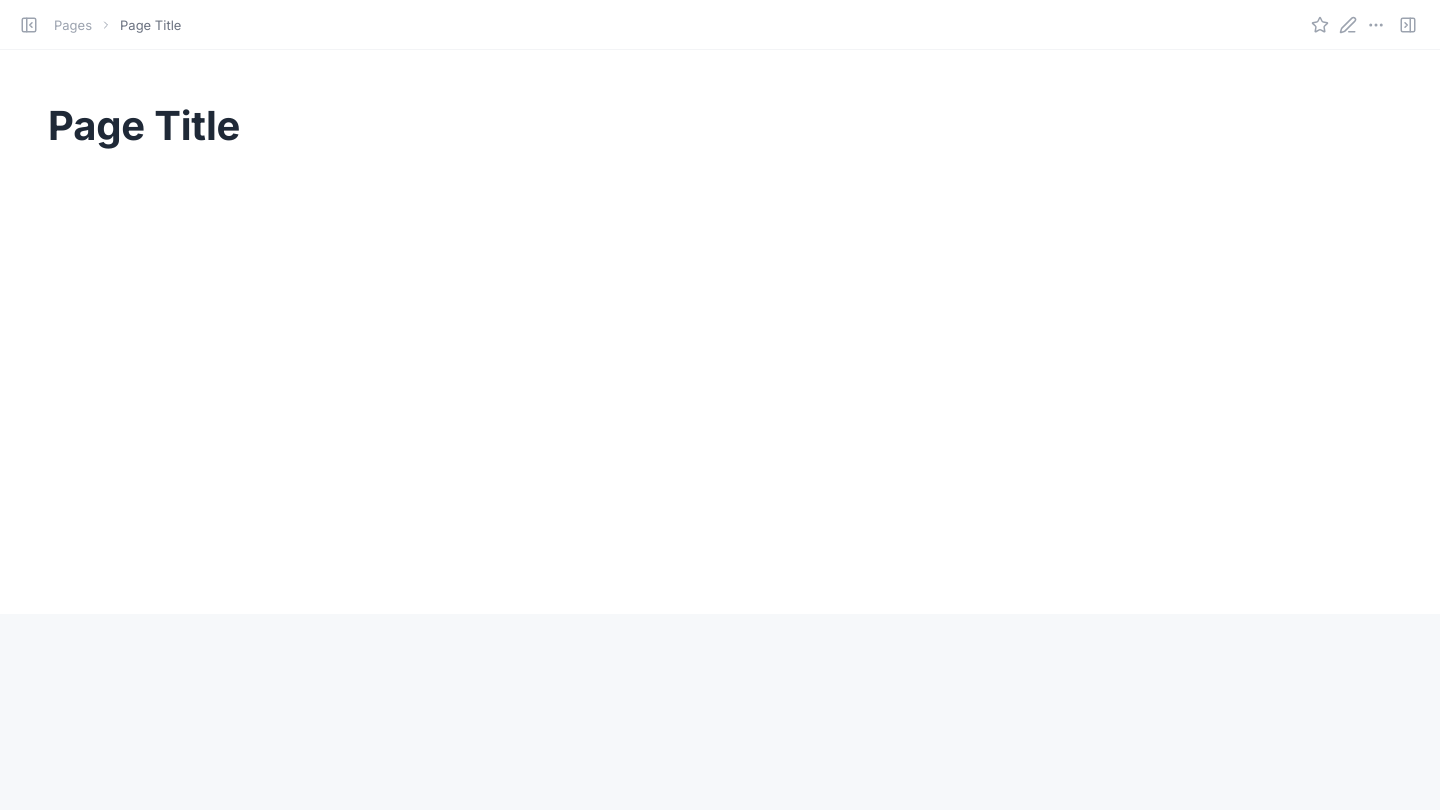
Scenario: PageContent › Edit Mode › closes modal and stays in edit mode when Keep editing is clicked
What coordinates should you click on to do the following:
click the button named "Edit page"
I would click on:
 (1348, 24)
Its box is [1336,12,1360,36].
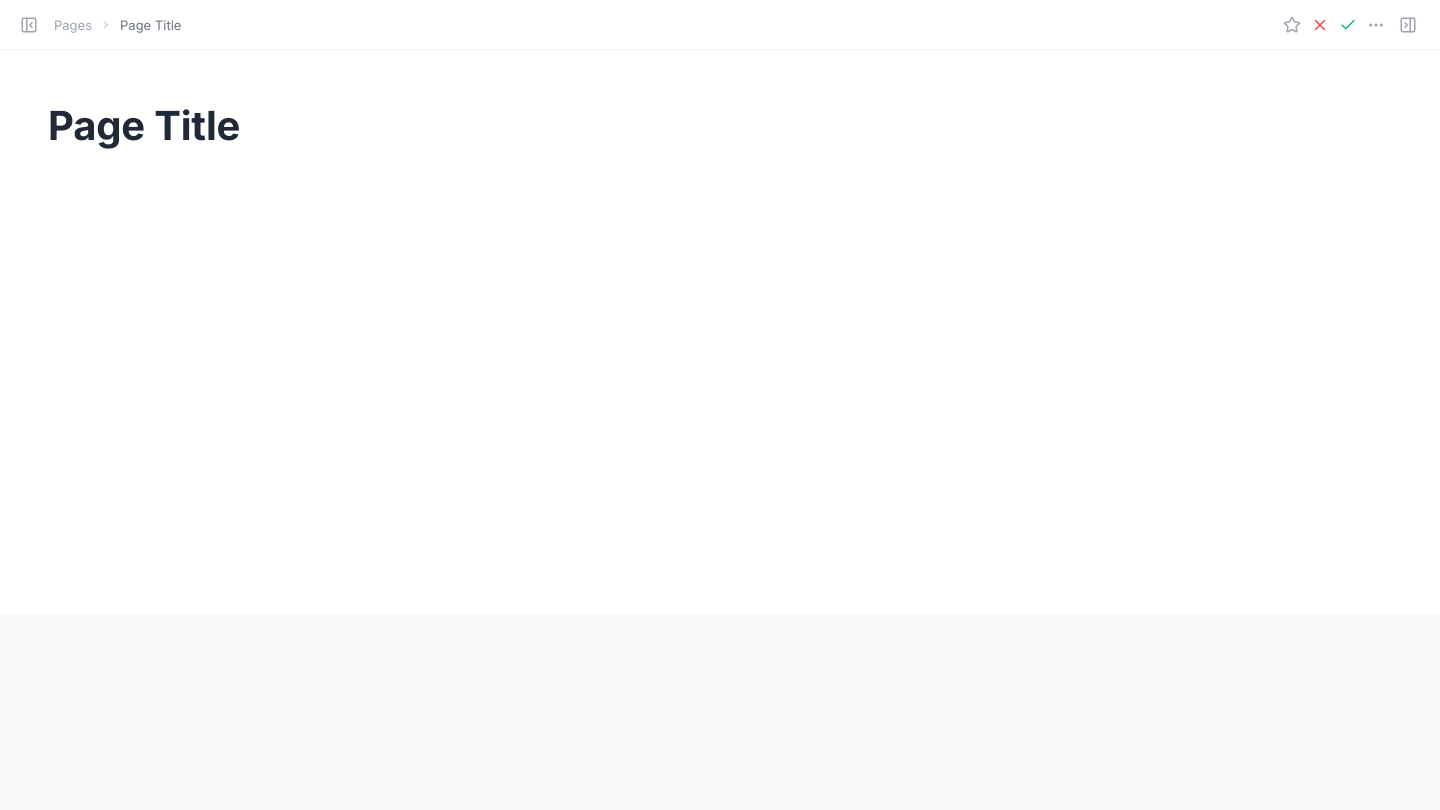
What coordinates should you click on to do the following:
click the button named "Cancel editing"
I would click on:
 (1320, 24)
Its box is [1308,12,1332,36].
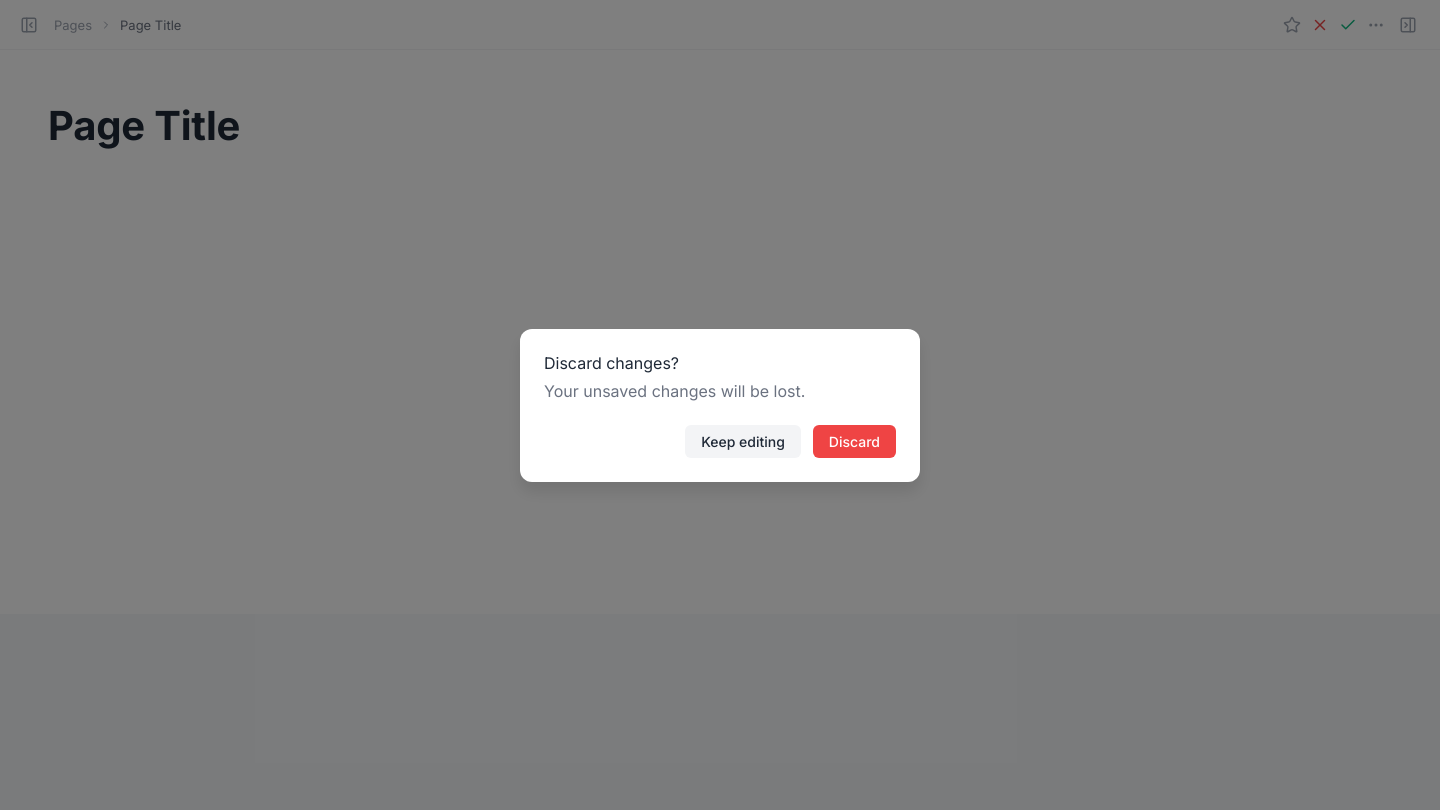
What coordinates should you click on to do the following:
click the button "Keep editing"
I would click on:
 (743, 441)
Its box is [685,424,801,458].
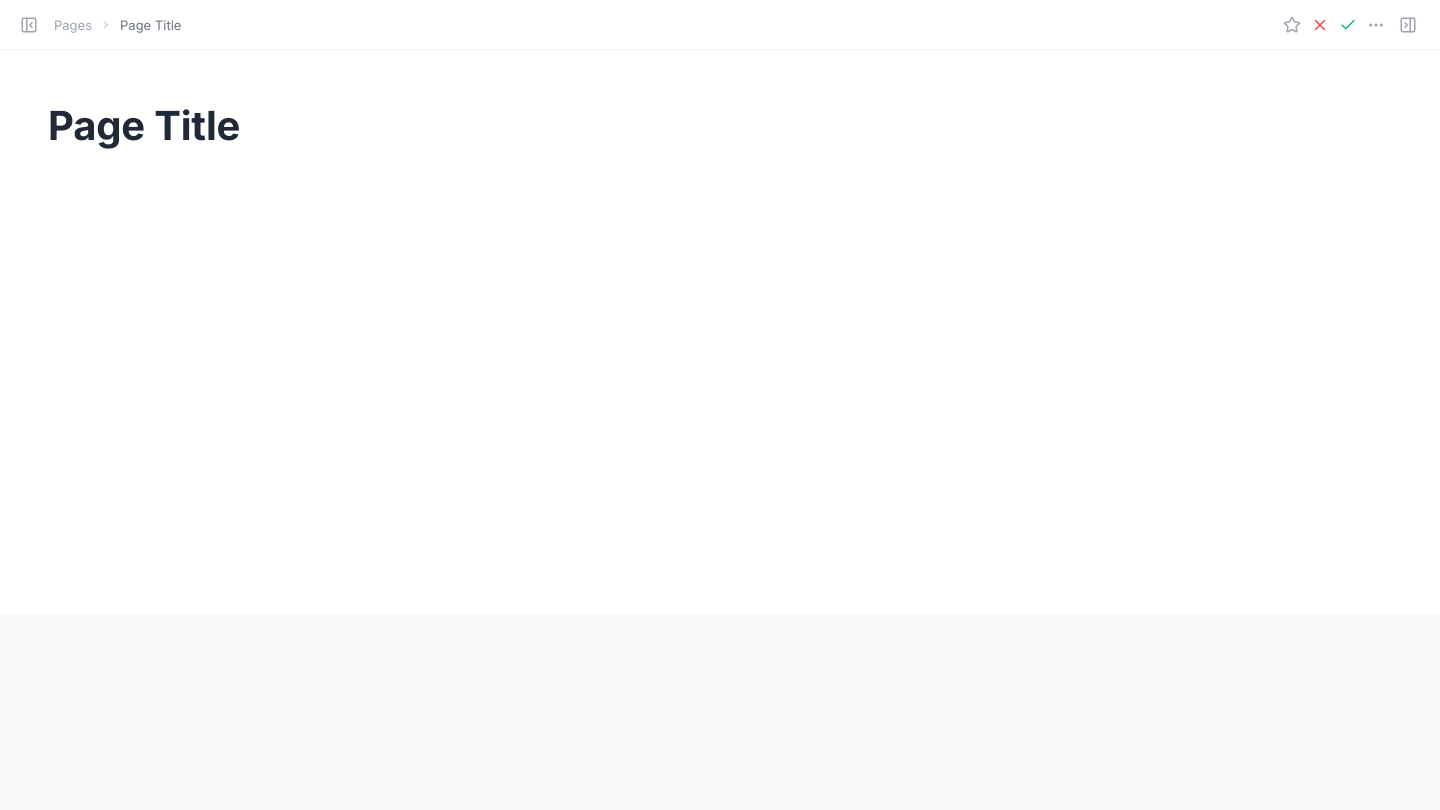
Now the button named "Save changes" is shown, box [1336,12,1360,36]
Now the heading "Discard changes?" is gone
